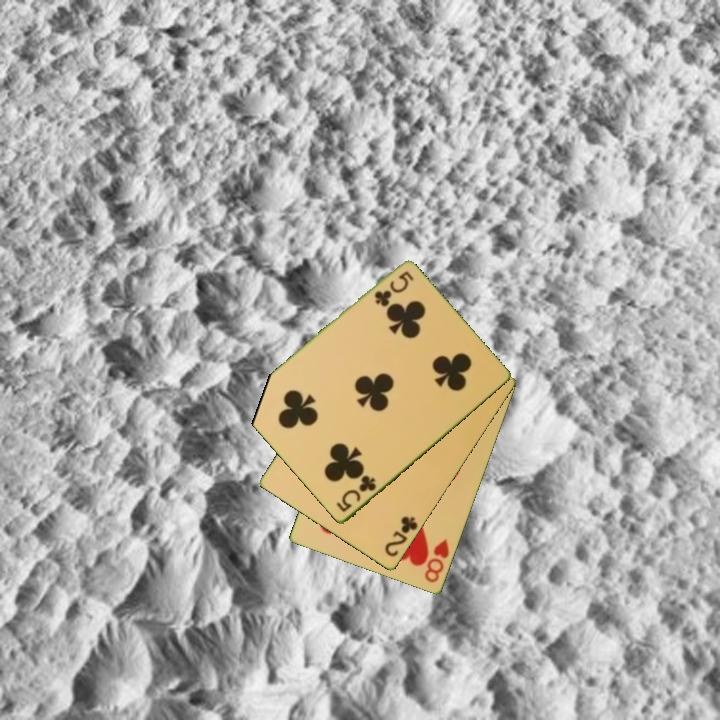2c: (381, 513, 421, 560)
5c: (333, 472, 379, 515), (371, 268, 417, 309)
8h: (421, 536, 452, 586)
